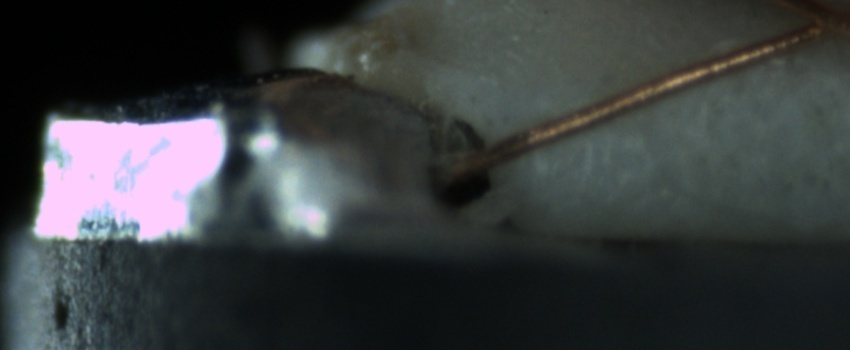CL: (771, 1, 846, 47)
